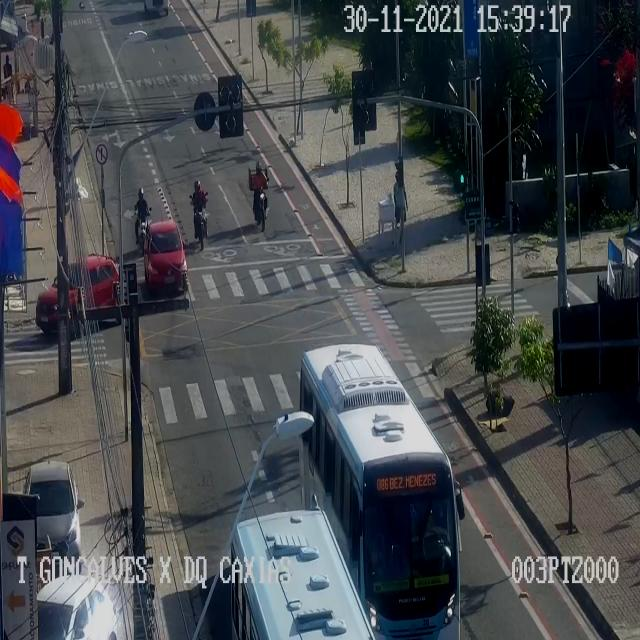Bus: (300, 345, 466, 639), (230, 511, 374, 639)
Car: (36, 255, 121, 334), (25, 462, 85, 564), (38, 573, 118, 639), (144, 220, 190, 294)
Motorcycle: (249, 160, 271, 232), (189, 180, 209, 252), (134, 188, 150, 248)
